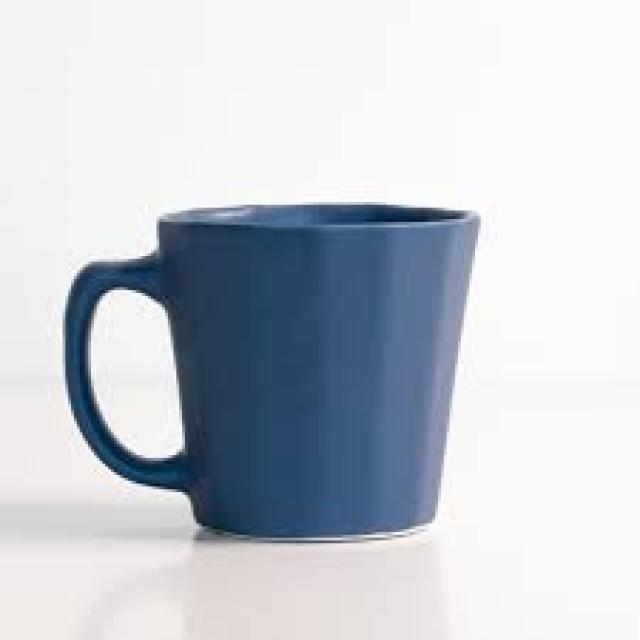taza: (59, 202, 480, 544)
